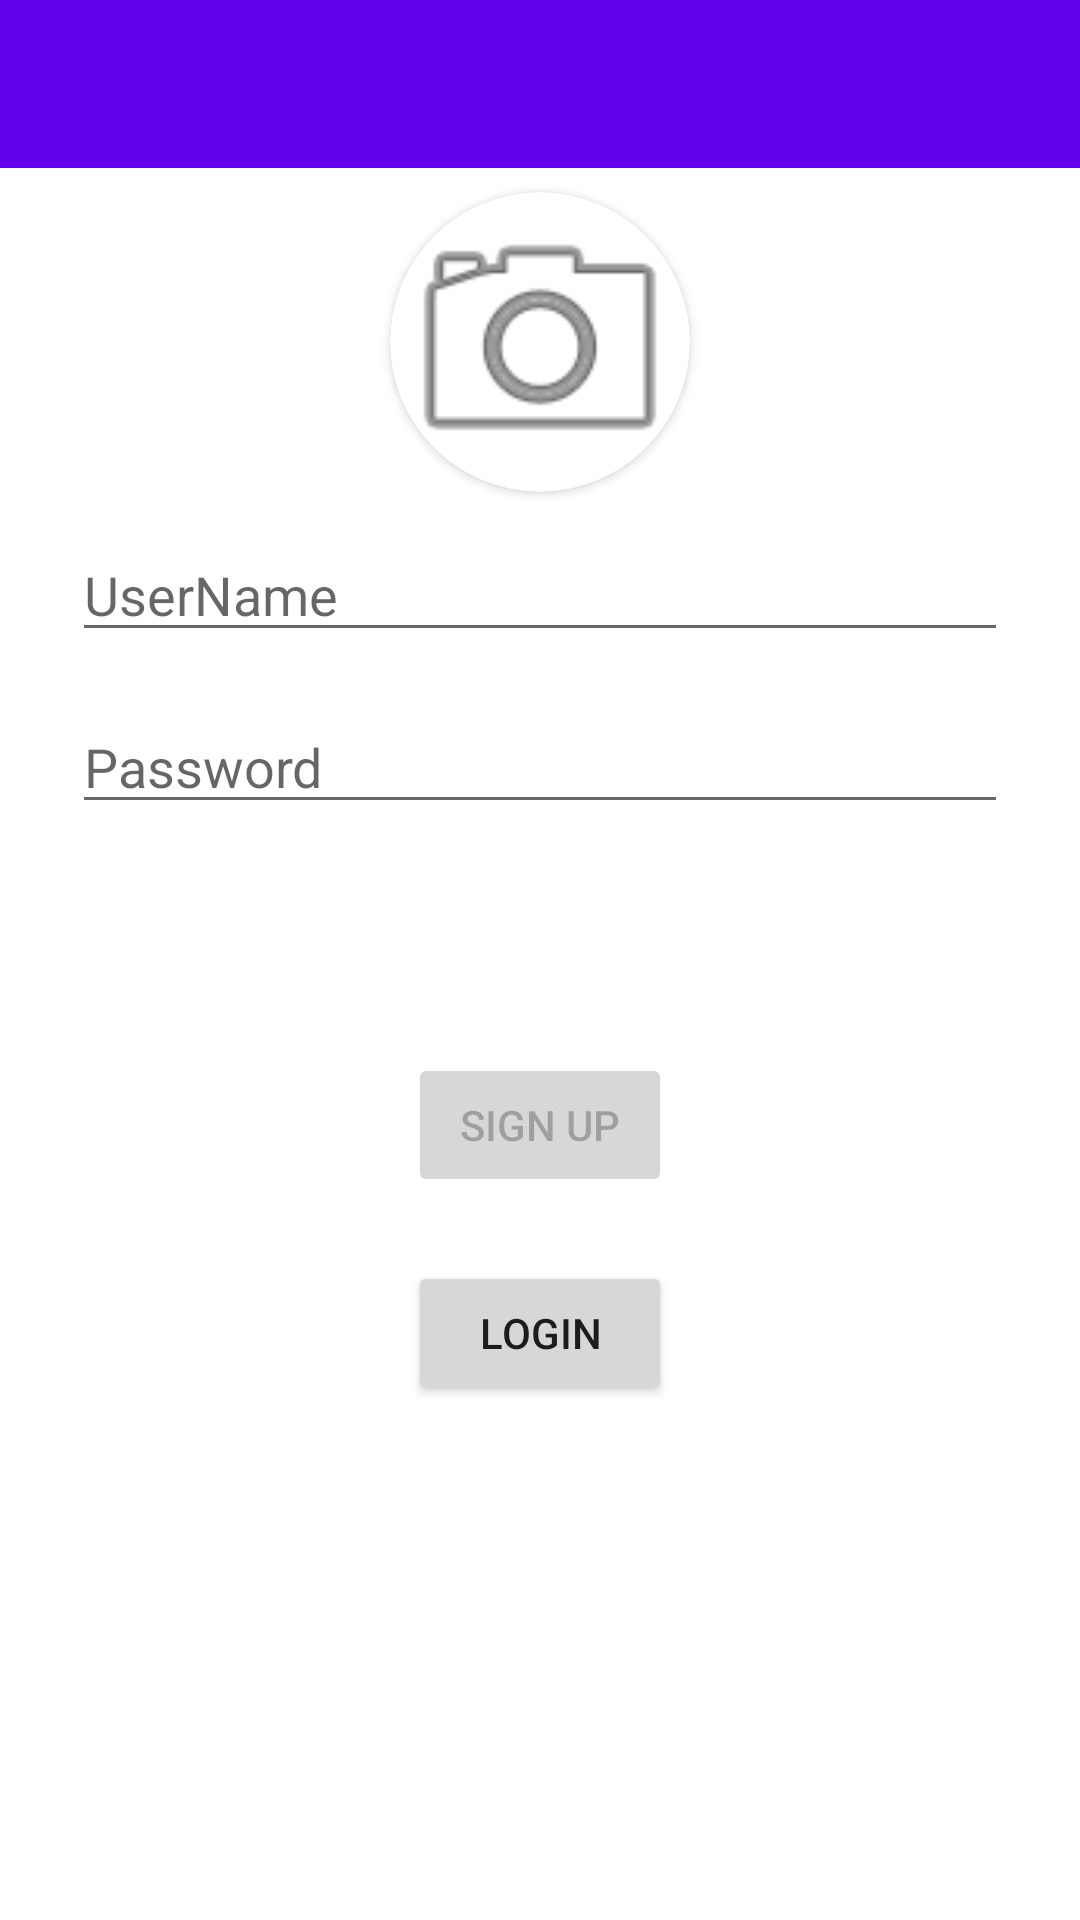

Screen size 1080×1920. Icon name, then its box in pixels as (x1, y1, x2, y2):
camera: (396, 245, 684, 492)
